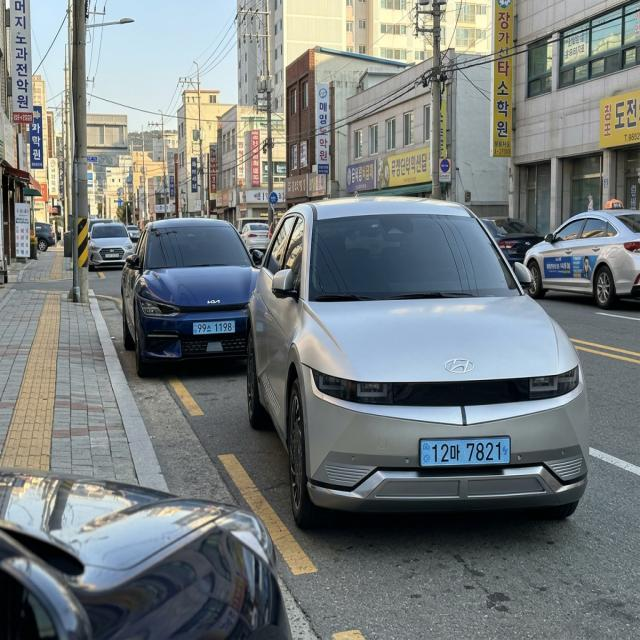car: (408, 428, 521, 480), (185, 312, 244, 341)
carev: (417, 436, 433, 471), (500, 435, 514, 468), (188, 316, 199, 338), (231, 317, 241, 338)
